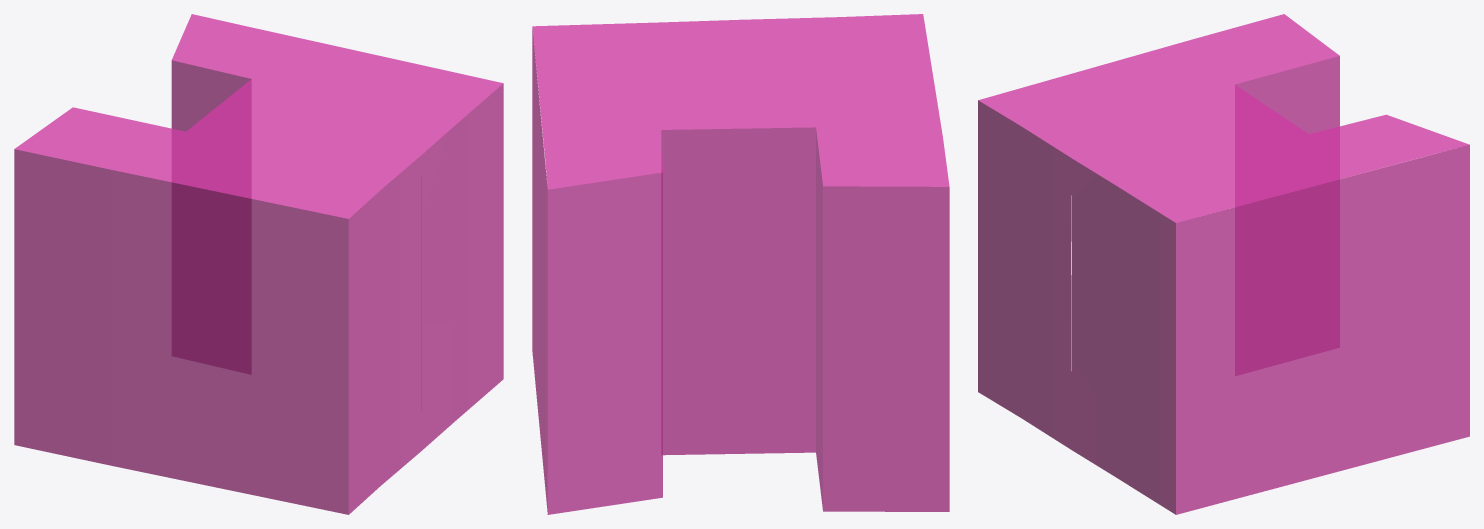
3 renders of one model, left to right at view 1: azimuth 30°, elevation 25°; view 2: azimuth 150°, elevation 25°; view 3: azimuth 270°, elevation 25°, orthographic. The views are drawn at different scales.
Size of the model in its own units: 32.27 by 21 by 32.07.
